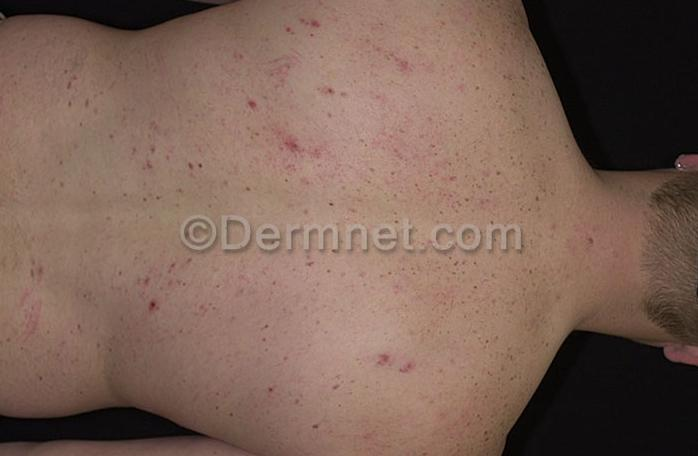exudacion 1: (27, 8, 422, 385)
